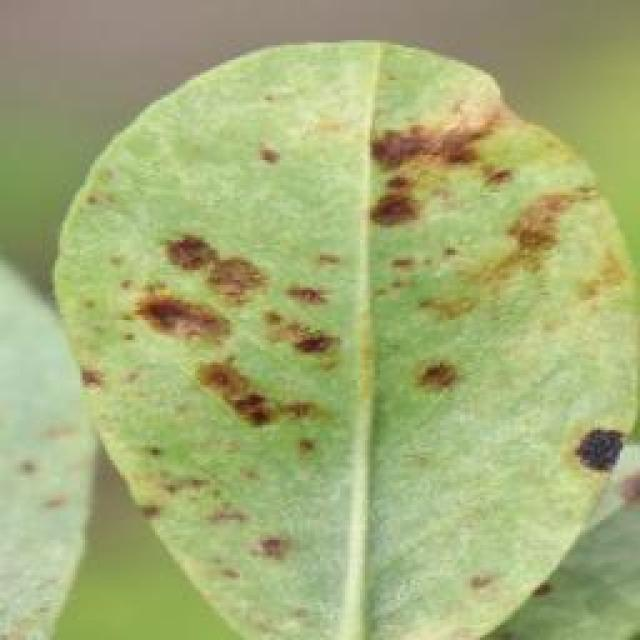Whitefly: (110, 81, 600, 635)
